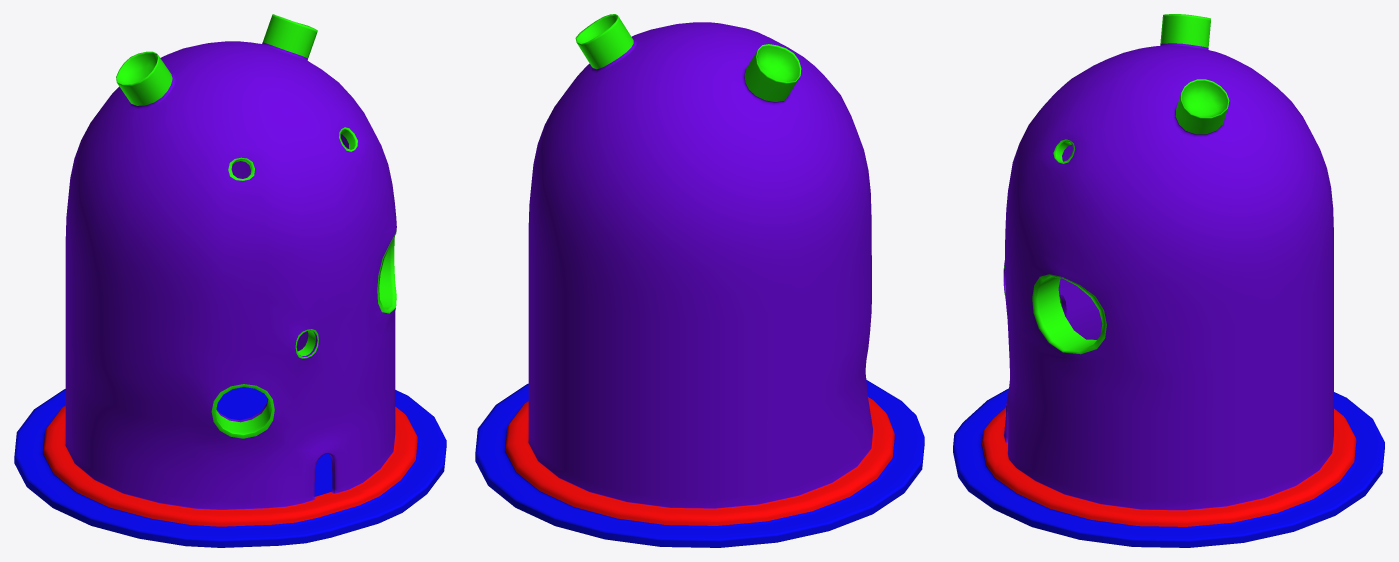
Rendered from Haus_HP.FBX.
3 renders of one model, left to right at view 1: azimuth 30°, elevation 25°; view 2: azimuth 150°, elevation 25°; view 3: azimuth 270°, elevation 25°, orthographic. The views are drawn at different scales.
Visible parts, largest first — view 1: Haus_1_HP; view 2: Haus_1_HP; view 3: Haus_1_HP.
Boxes of the visible parts, x1,y1,x2,y2 form: Haus_1_HP: (14, 14, 446, 547); Haus_1_HP: (475, 14, 924, 547); Haus_1_HP: (953, 14, 1384, 547).
Bounding box in the file's own units: 451 × 453 × 476.
